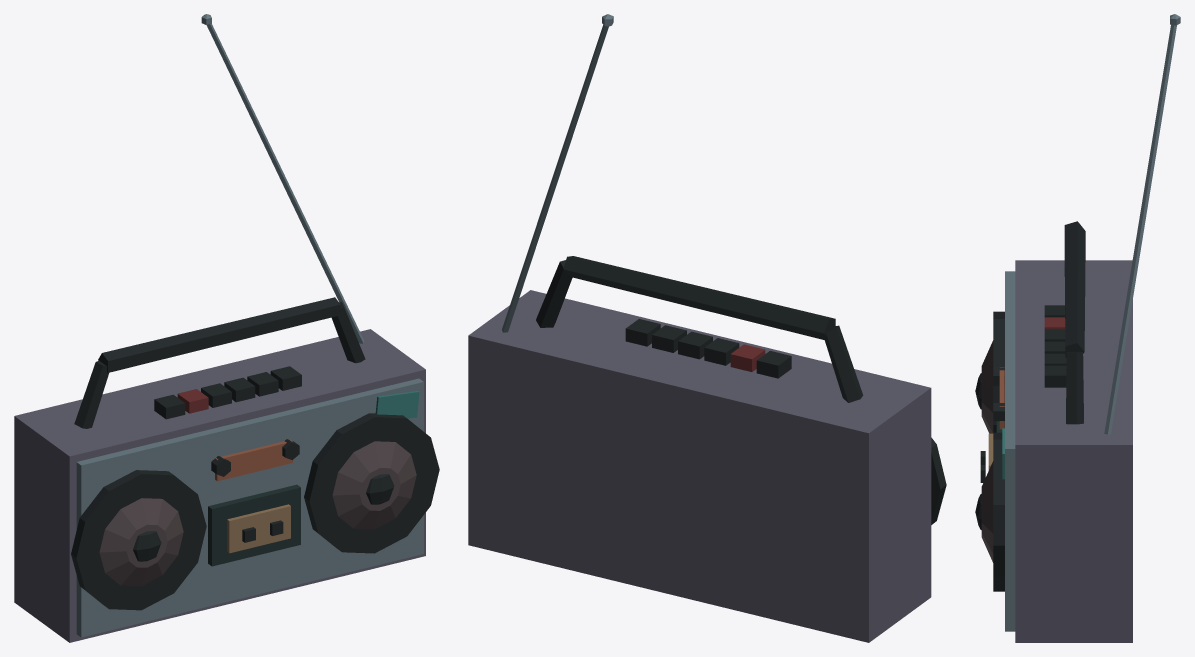
File: boombox.glb
3 renders of one model, left to right at view 1: azimuth 30°, elevation 25°; view 2: azimuth 150°, elevation 25°; view 3: azimuth 270°, elevation 25°, orthographic. The views are drawn at different scales.
Parts seen in each view (by area): view 1: Boombox, DifuzorS, DifuzorD, Antena, Afisaj; view 2: Boombox, Antena, DifuzorS; view 3: Boombox, Antena, DifuzorD, DifuzorS.
Part boxes in pixels (x1,y1,x2,y2): Boombox: (14, 297, 425, 642); DifuzorS: (71, 470, 206, 610); DifuzorD: (304, 413, 439, 553); Antena: (201, 14, 364, 343); Afisaj: (215, 439, 292, 481); Boombox: (468, 256, 931, 642); Antena: (502, 14, 613, 332); DifuzorS: (931, 437, 946, 524); Boombox: (980, 221, 1132, 642); Antena: (1104, 14, 1180, 434); DifuzorD: (975, 432, 1004, 591); DifuzorS: (975, 311, 1004, 433).
Bounding box in the file's own units: 0.53 × 0.728 × 0.2444.
